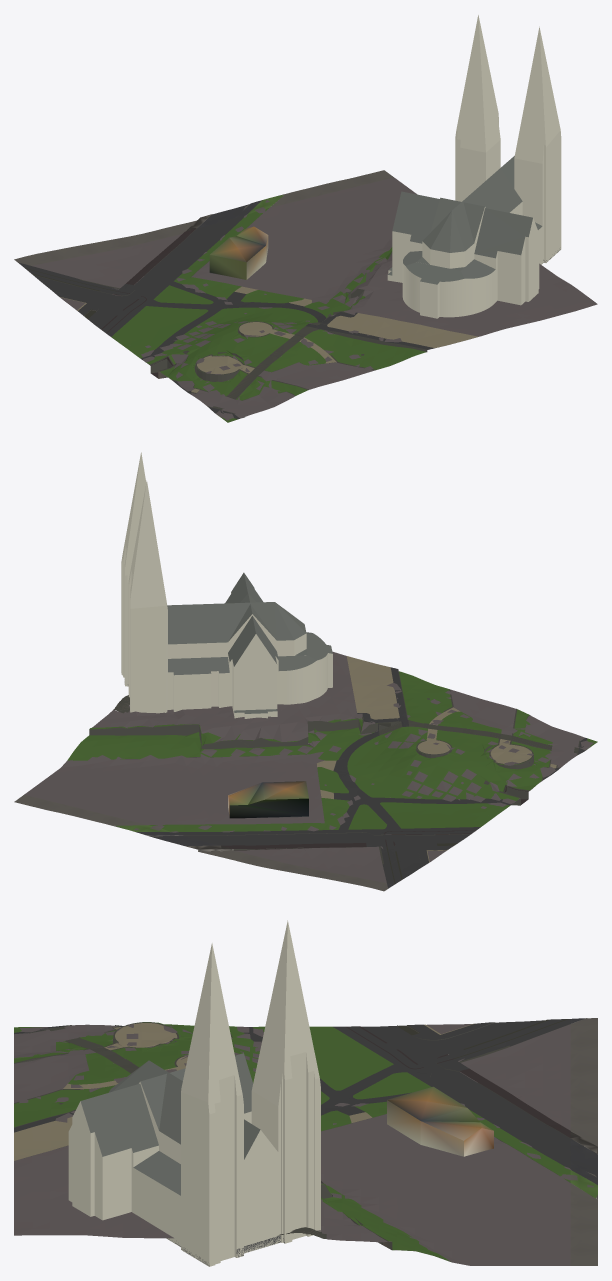
The picture shows the model from 3 angles, top to bottom: view 1: azimuth 30°, elevation 25°; view 2: azimuth 150°, elevation 25°; view 3: azimuth 270°, elevation 25°; orthographic projection. The views are drawn at different scales.
Visible parts, largest first — view 1: c_m04_p06; view 2: c_m04_p06; view 3: c_m04_p06.
Part boxes in pixels (bbox=[...]): c_m04_p06: bbox=[14, 15, 597, 422]; c_m04_p06: bbox=[14, 452, 597, 891]; c_m04_p06: bbox=[14, 920, 597, 1266].
Size of the model in its own units: 140 by 85.63 by 128.
